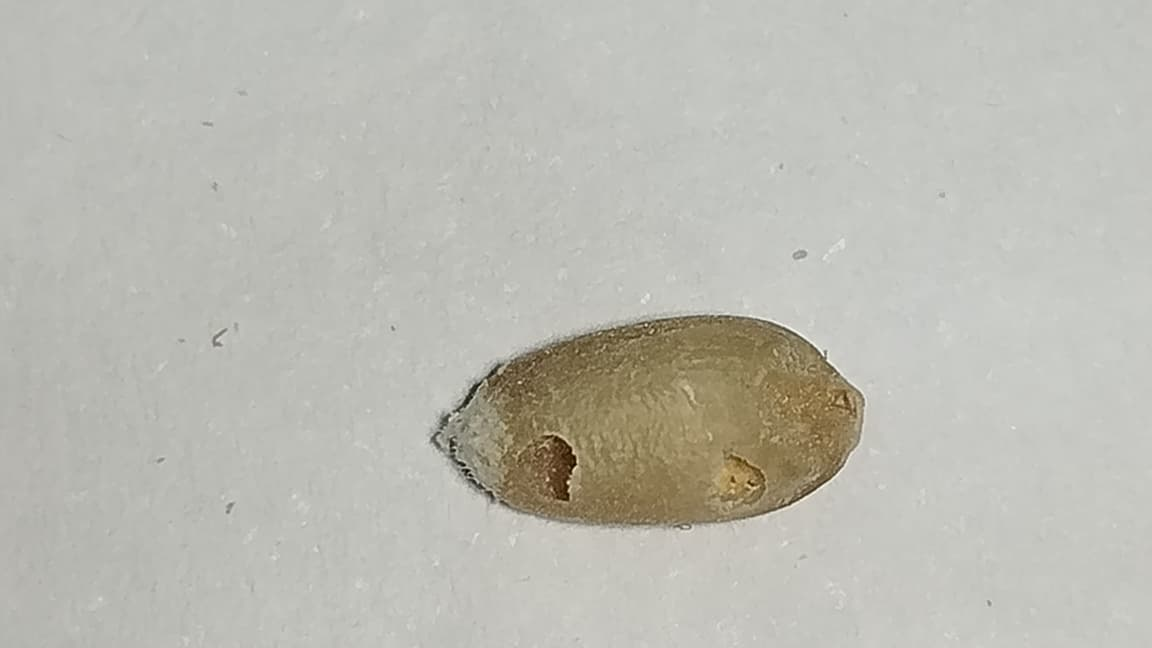damage: (429, 314, 864, 522)
insectdamage: (483, 397, 627, 526), (705, 452, 774, 522)
